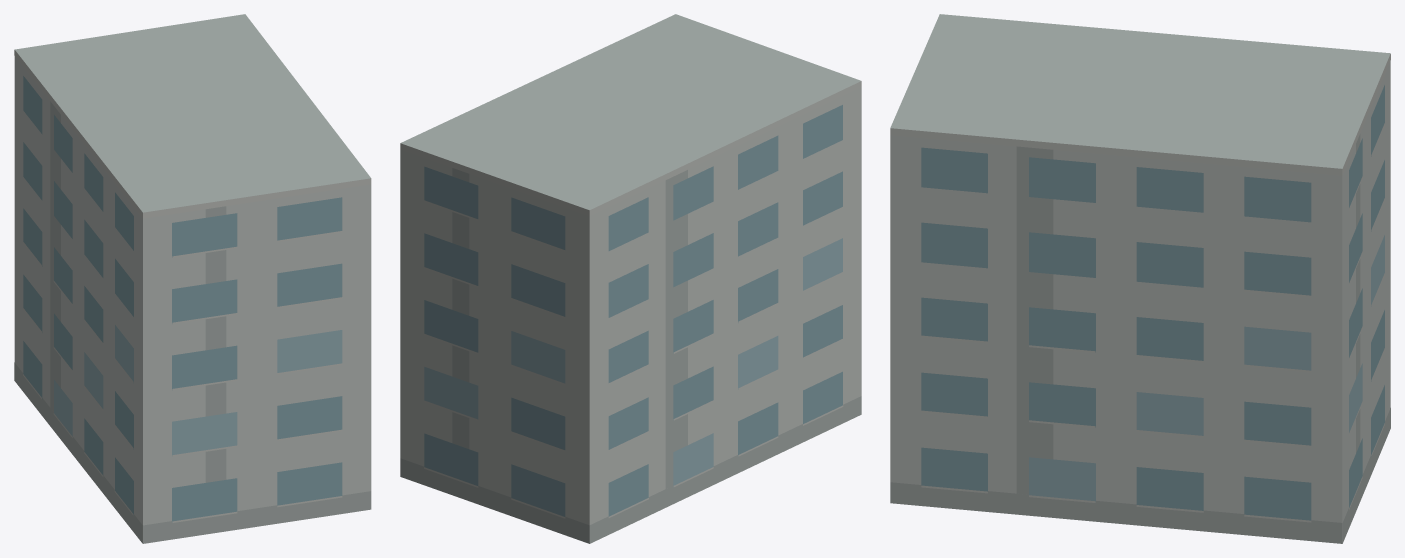
File: survey-upis-32849556.glb
The picture shows the model from 3 angles, left to right: view 1: azimuth 30°, elevation 25°; view 2: azimuth 150°, elevation 25°; view 3: azimuth 270°, elevation 25°; orthographic projection. The views are drawn at different scales.
Parts seen in each view (by area): view 1: survey-upis-32849556.tmp; view 2: survey-upis-32849556.tmp; view 3: survey-upis-32849556.tmp.
Boxes of the visible parts, box(x1,y1,x2,y2) form: survey-upis-32849556.tmp: box(14, 14, 371, 543); survey-upis-32849556.tmp: box(400, 14, 861, 543); survey-upis-32849556.tmp: box(890, 14, 1390, 543).
Size of the model in its own units: 11.7 by 13.2 by 15.98.
